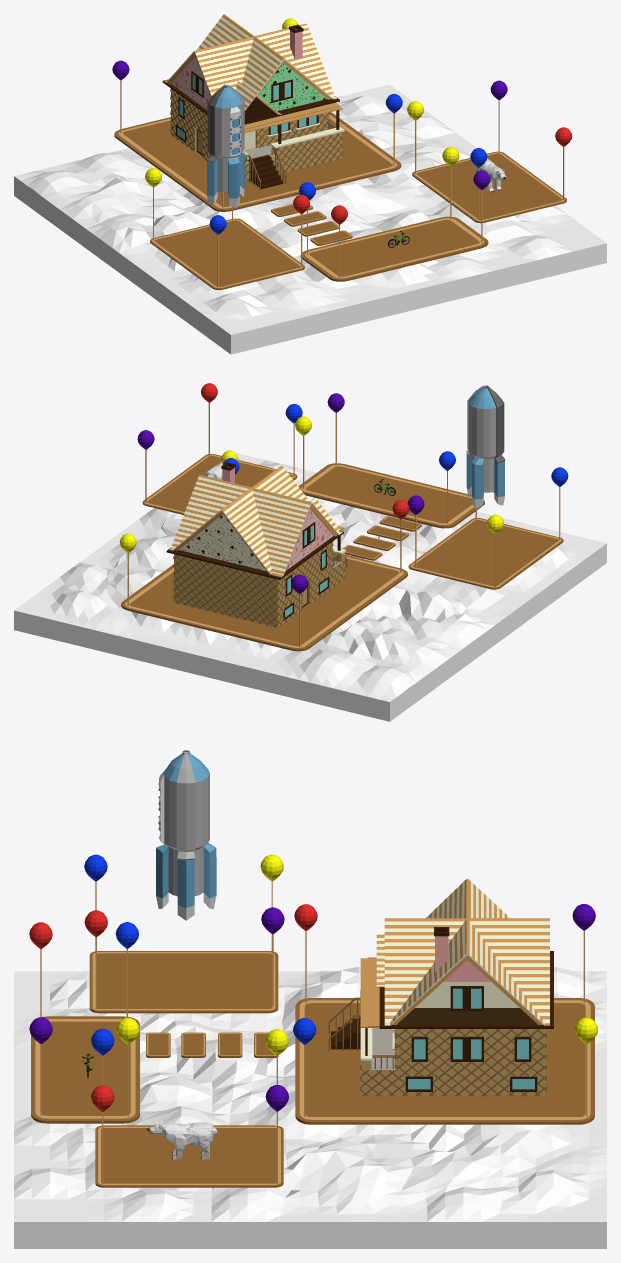
3 views of the same model, one above another, from view 1: azimuth 30°, elevation 25°; view 2: azimuth 150°, elevation 25°; view 3: azimuth 270°, elevation 25° (orthographic). The views are drawn at different scales.
Parts seen in each view (by area): view 1: Cube.013, Cube.1102, OBJRANDOM_ROCKETSHIP, ANIMAL_OSO_POLAR; view 2: Cube.013, Cube.1102, OBJRANDOM_ROCKETSHIP; view 3: Cube.013, Cube.1102, OBJRANDOM_ROCKETSHIP, ANIMAL_OSO_POLAR.
Boxes of the visible parts, left/top/right/bottom form: Cube.013: left=14, top=18, right=606, bottom=354; Cube.1102: left=162, top=14, right=344, bottom=190; OBJRANDOM_ROCKETSHIP: left=206, top=84, right=245, bottom=207; ANIMAL_OSO_POLAR: left=475, top=158, right=506, bottom=192; Cube.013: left=14, top=383, right=606, bottom=721; Cube.1102: left=166, top=462, right=347, bottom=627; OBJRANDOM_ROCKETSHIP: left=466, top=385, right=505, bottom=508; Cube.013: left=14, top=854, right=606, bottom=1248; Cube.1102: left=328, top=879, right=553, bottom=1096; OBJRANDOM_ROCKETSHIP: left=156, top=750, right=216, bottom=920; ANIMAL_OSO_POLAR: left=146, top=1120, right=217, bottom=1159.
Size of the model in its own units: 4000 by 2209 by 4000.
Materials: 31 (2 with a texture image).
